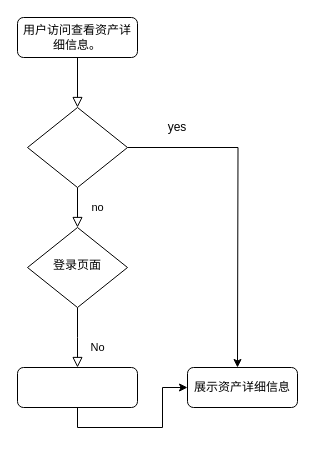
This 315x453 diagram has some shape labels left out. Each missing label, with the centre of its shape:
"存储用户密码到浏览器Session中" goes at (77,387).
"是否登录" goes at (77,147).
